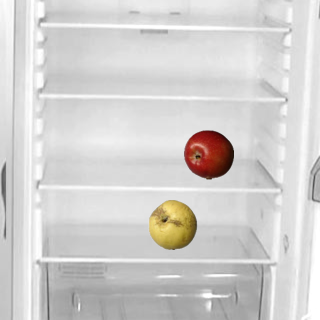Apple Braeburn: (183, 129, 233, 179)
Apple Golden 1: (147, 199, 197, 249)
